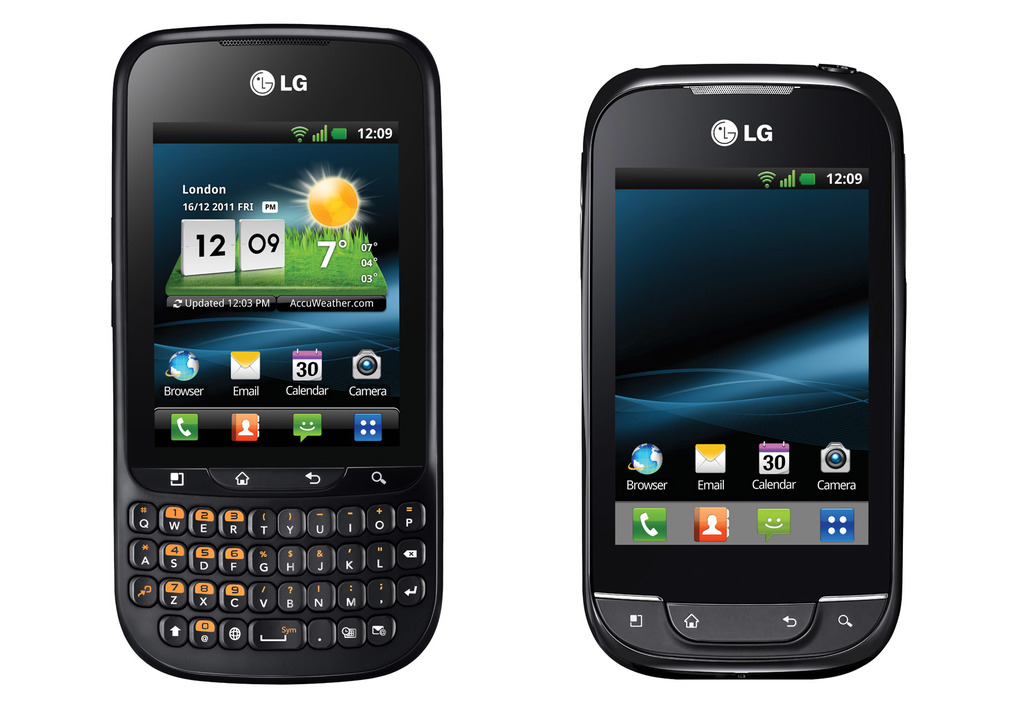mobile phone: (113, 26, 444, 682), (575, 60, 908, 680)
